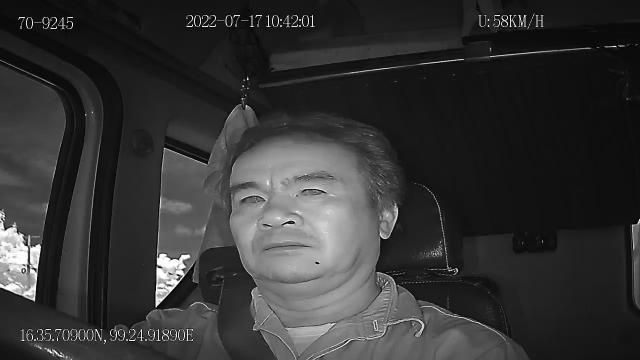SafeDriving: (291, 178, 337, 204), (230, 183, 270, 212)
Seatbelt: (216, 278, 280, 360)
